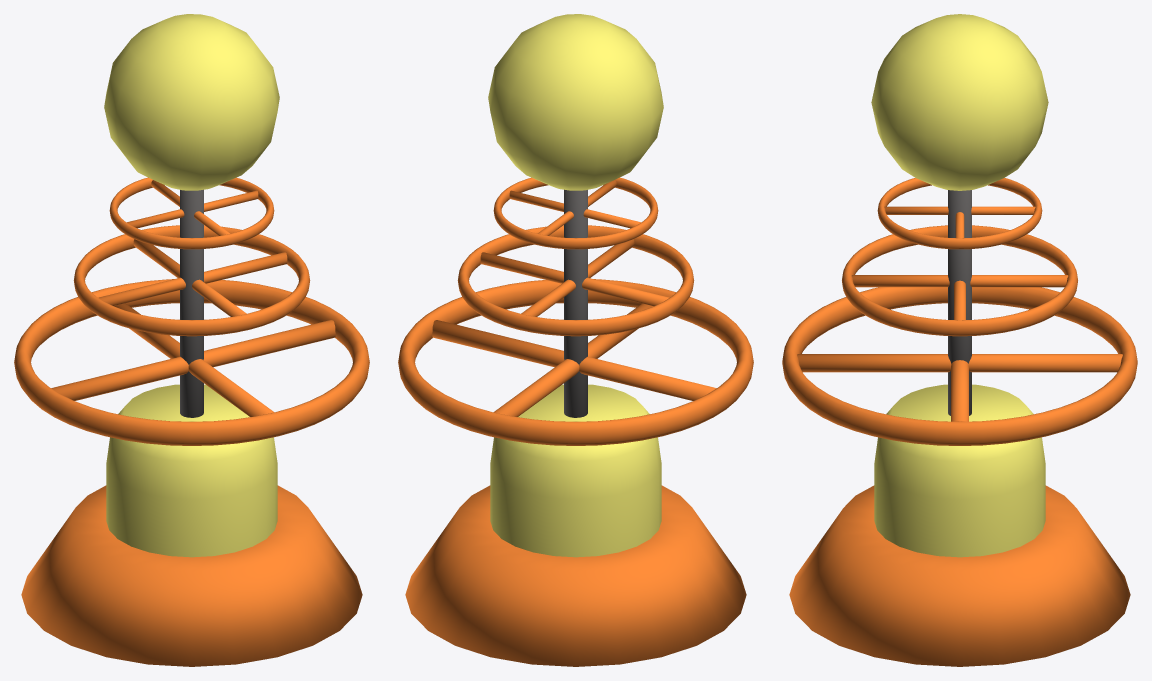
File: Obstacle 29 V3.fbx
The picture shows the model from 3 angles, left to right: view 1: azimuth 30°, elevation 25°; view 2: azimuth 150°, elevation 25°; view 3: azimuth 270°, elevation 25°; orthographic projection.
Parts seen in each view (by area): view 1: 029 Part 1; view 2: 029 Part 1; view 3: 029 Part 1.
Part boxes in pixels (bbox=[...]): 029 Part 1: bbox=[14, 14, 369, 666]; 029 Part 1: bbox=[398, 14, 753, 666]; 029 Part 1: bbox=[782, 14, 1137, 666].
Size of the model in its own units: 66.38 by 118 by 66.38.
Materials: 1 (1 with a texture image).
